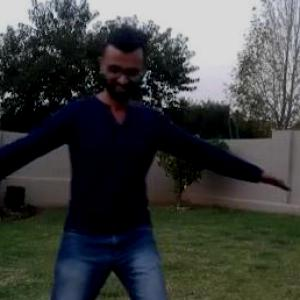land: (0, 52, 236, 299)
